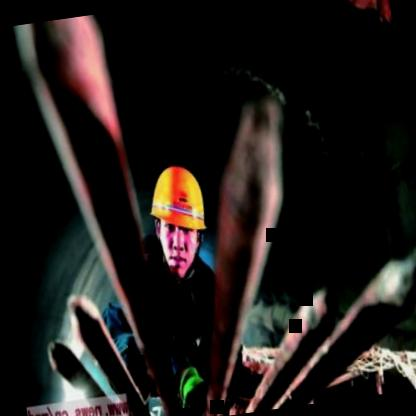helmet: (136, 150, 219, 289)
